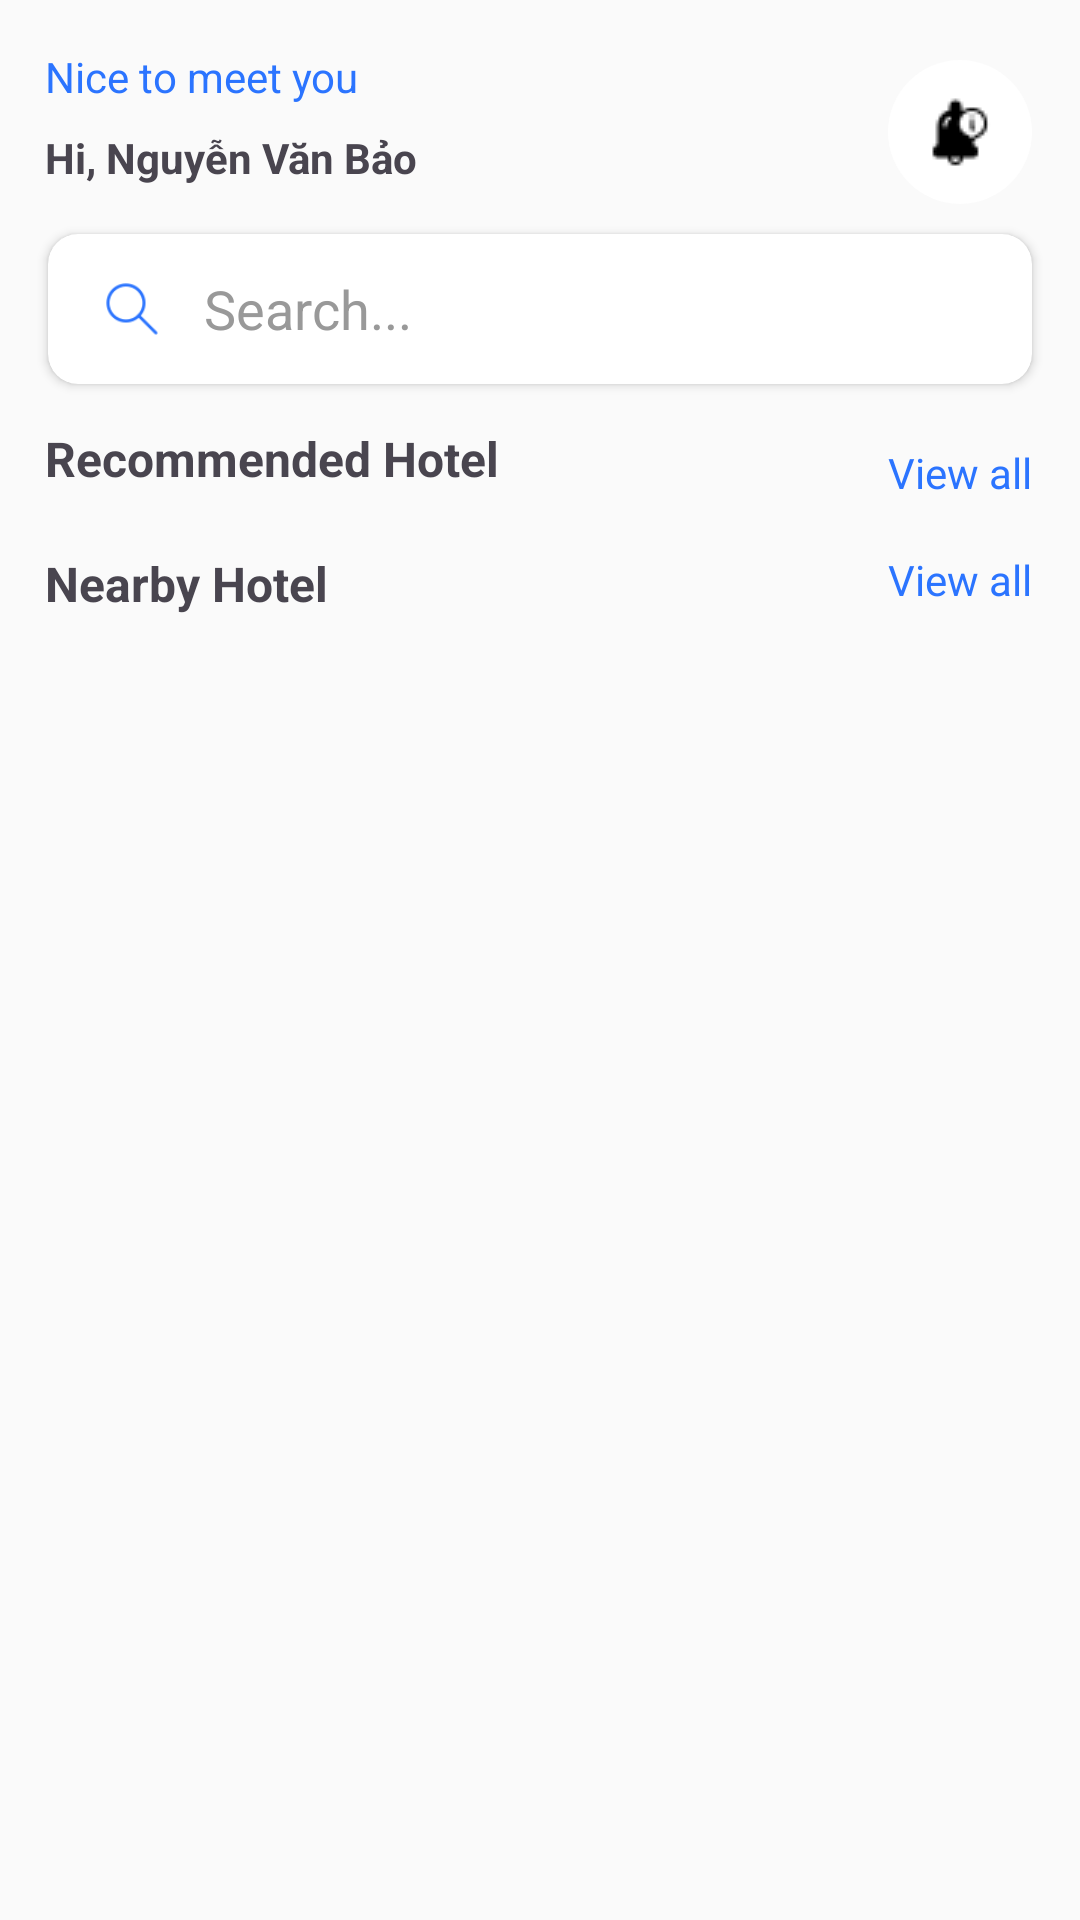

Point at icon controls on the screen. Image size 1080 × 1920, points as [x,y].
Thông báo: [960,132]
